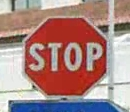stop: (22, 14, 108, 97)
